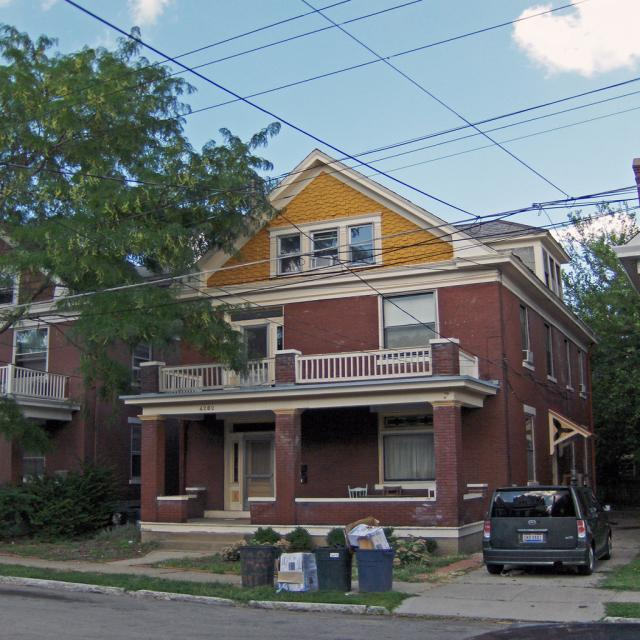car: (481, 485, 609, 577)
